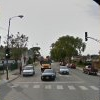crosswalk: (4, 84, 98, 89)
